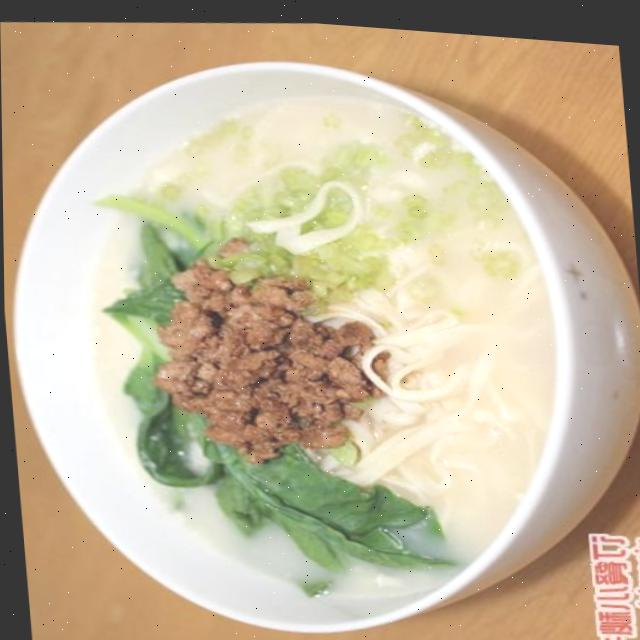面条主食: (42, 51, 596, 637)
